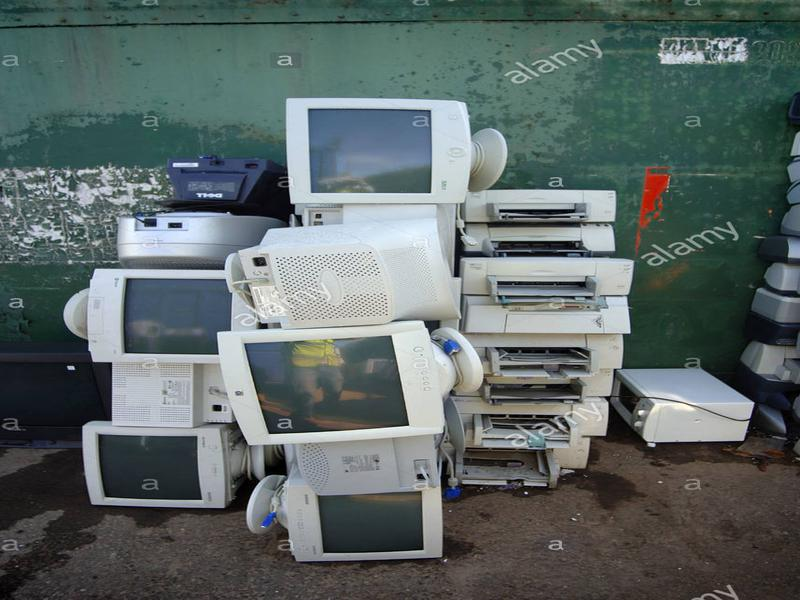printer: (615, 366, 764, 454), (108, 207, 279, 274), (451, 398, 611, 453), (457, 252, 637, 300), (467, 334, 623, 384), (458, 440, 597, 496), (463, 182, 619, 230), (455, 221, 627, 254)
tv_pc: (213, 321, 455, 447), (223, 214, 473, 330), (279, 88, 511, 210), (246, 469, 453, 568), (75, 424, 267, 519), (61, 264, 245, 361)
